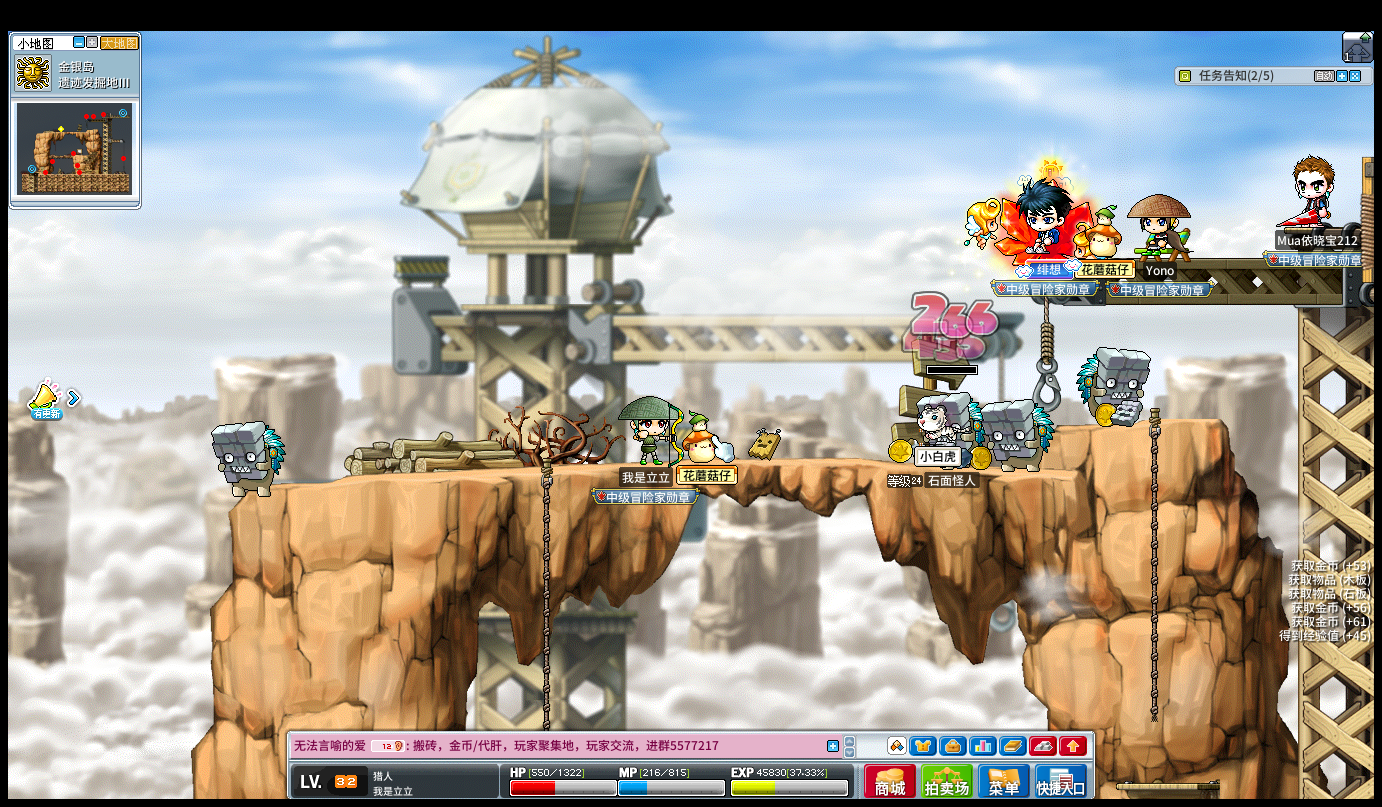floor: (235, 454, 1140, 482), (1071, 414, 1225, 432)
monster: (1076, 345, 1151, 428), (210, 420, 286, 500), (981, 398, 1054, 472), (915, 390, 983, 468)
rope: (1146, 400, 1160, 722), (538, 451, 551, 772), (540, 451, 552, 673), (1041, 299, 1053, 394)
